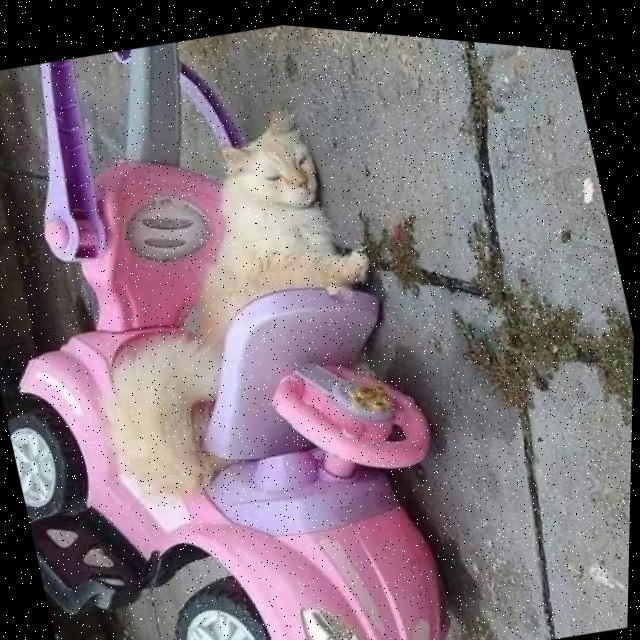Cats: (12, 80, 434, 520)
